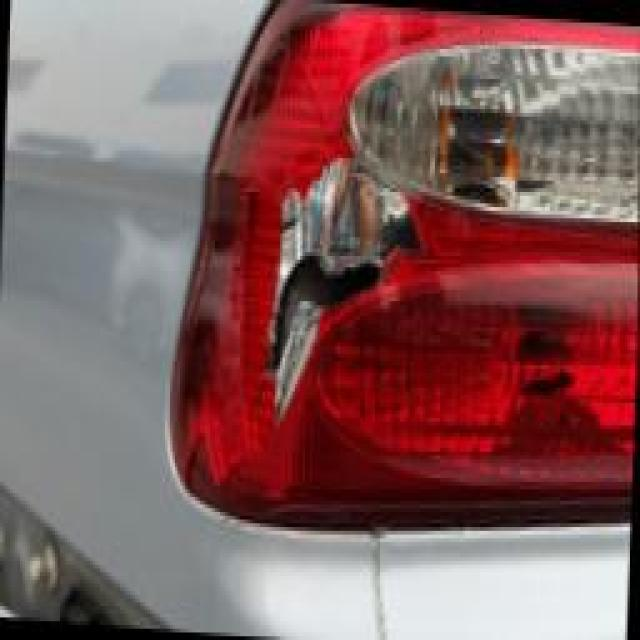Light: (252, 124, 469, 437)
